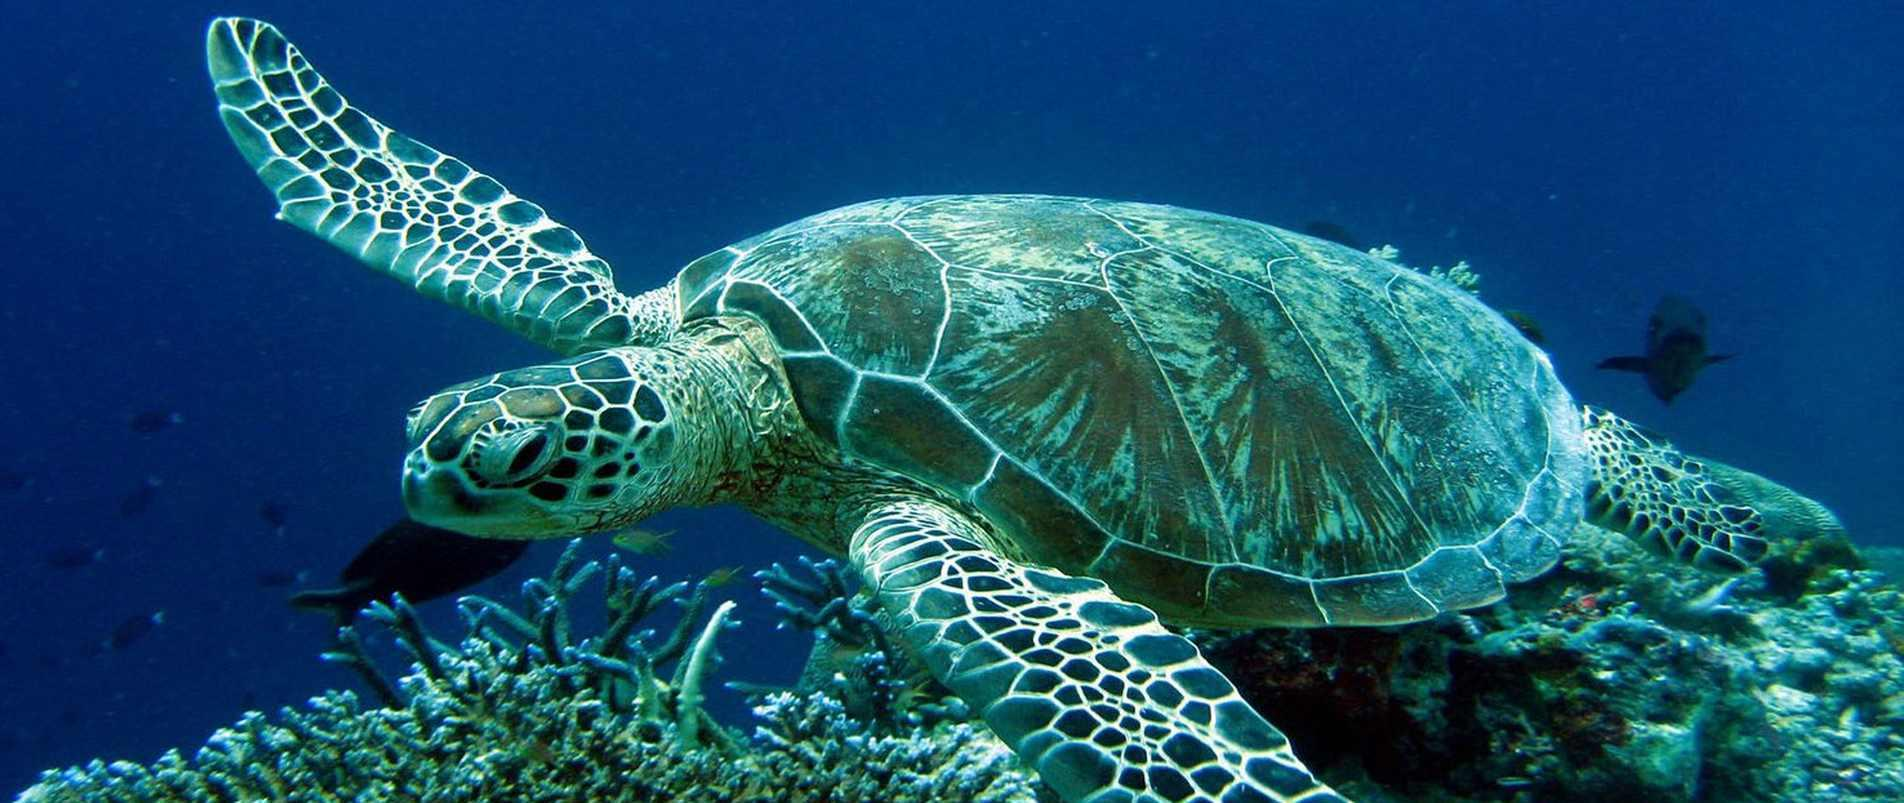turtle: (381, 317, 730, 566)
